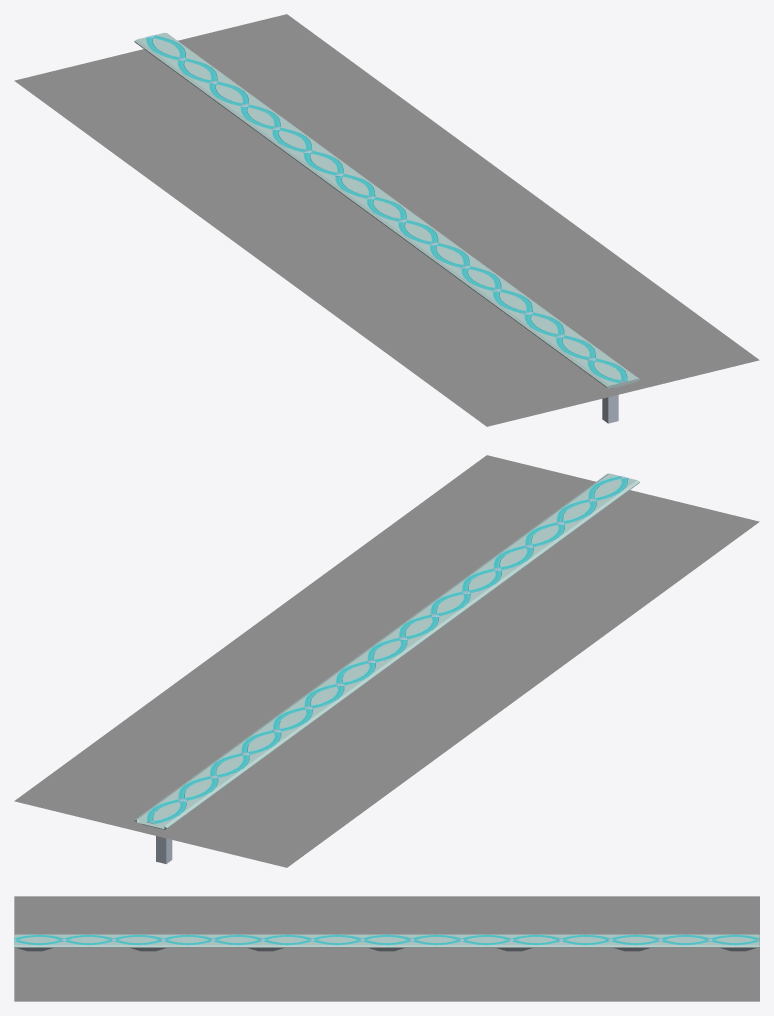
Rendered from Wtaer plan map 1.fbx.
3 views of the same model, one above another, from view 1: azimuth 30°, elevation 25°; view 2: azimuth 150°, elevation 25°; view 3: azimuth 270°, elevation 25° (orthographic). The views are drawn at different scales.
Parts seen in each view (by area): view 1: Object020, Plane001; view 2: Object020, Plane001; view 3: Object020, Plane001.
Boxes of the visible parts, box(x1,y1,x2,y2) form: Object020: box(14, 14, 759, 426); Plane001: box(134, 32, 639, 423); Object020: box(14, 455, 759, 867); Plane001: box(134, 473, 639, 864); Object020: box(14, 896, 759, 1001); Plane001: box(14, 934, 759, 951).
Size of the model in its own units: 5000 by 839 by 15005.
